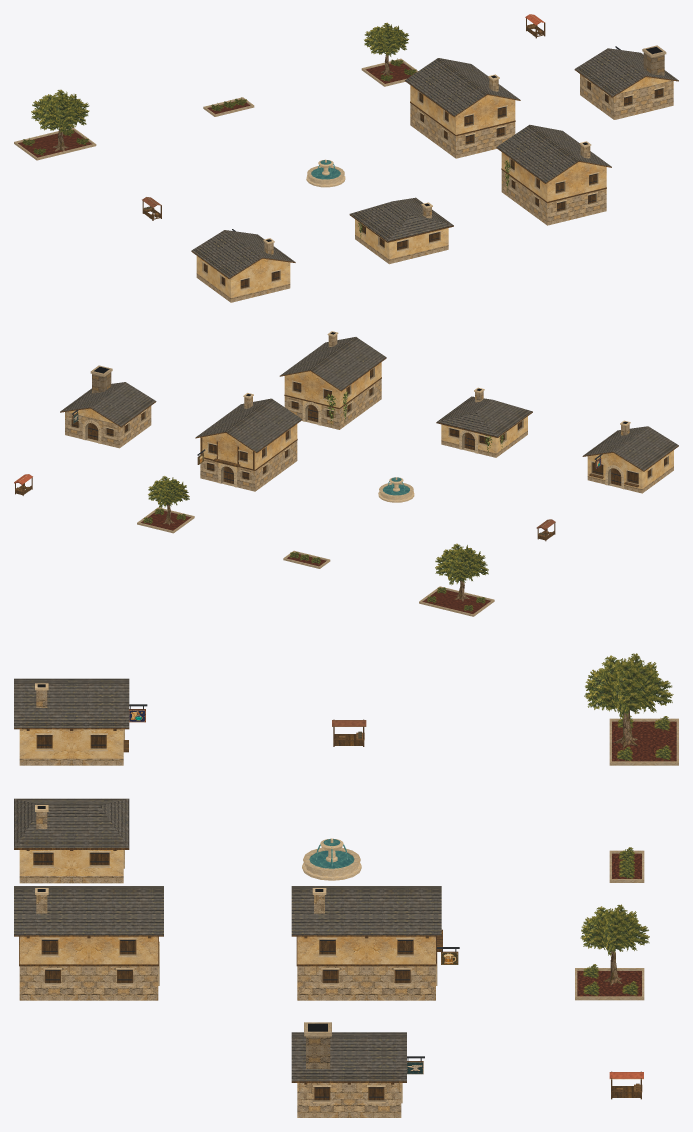
File: city-dressing.glb
The picture shows the model from 3 angles, top to bottom: view 1: azimuth 30°, elevation 25°; view 2: azimuth 150°, elevation 25°; view 3: azimuth 270°, elevation 25°; orthographic projection. The views are drawn at different scales.
Visible parts, largest first — view 1: tall-house, inn, provisioner, smithy, low-house-hip, courtyard-tree-foliage, dressing-courtyard-garden-opaque, dressing-east-tree-foliage, smithy-part-1, inn-part-1, tall-house-part-1, dressing-east-garden-opaque (+3 smaller); view 2: inn, tall-house, provisioner, smithy, low-house-hip, courtyard-tree-foliage, dressing-courtyard-garden-opaque, smithy-part-1, inn-part-1, tall-house-part-1, dressing-east-tree-foliage, provisioner-part-1 (+3 smaller); view 3: inn, tall-house, provisioner, low-house-hip, smithy, courtyard-tree-foliage, dressing-courtyard-garden-opaque, dressing-east-tree-foliage, dressing-east-garden-opaque, smithy-part-1, tall-house-part-1, dressing-fountain-opaque (+6 smaller).
Part boxes in pixels (box(x1,y1,x2,y2)): tall-house: box(496, 124, 611, 225); inn: box(405, 58, 520, 158); provisioner: box(191, 230, 295, 302); smithy: box(574, 48, 678, 119); low-house-hip: box(349, 197, 453, 264); courtyard-tree-foliage: box(31, 89, 89, 133); dressing-courtyard-garden-opaque: box(14, 127, 96, 160); dressing-east-tree-foliage: box(364, 22, 408, 56); smithy-part-1: box(585, 45, 666, 106); inn-part-1: box(417, 75, 506, 145); tall-house-part-1: box(509, 142, 598, 212); dressing-east-garden-opaque: box(361, 58, 417, 86); inn: box(195, 393, 302, 491); tall-house: box(279, 331, 386, 429); provisioner: box(582, 420, 678, 493); smithy: box(60, 371, 156, 448); low-house-hip: box(436, 387, 532, 457); courtyard-tree-foliage: box(435, 543, 488, 585); dressing-courtyard-garden-opaque: box(419, 586, 494, 616); smithy-part-1: box(70, 365, 145, 442); inn-part-1: box(201, 394, 290, 486); tall-house-part-1: box(290, 332, 374, 424); dressing-east-tree-foliage: box(148, 476, 189, 508); provisioner-part-1: box(591, 421, 668, 488); inn: box(291, 886, 442, 1000); tall-house: box(14, 886, 163, 1000); provisioner: box(14, 678, 129, 765); low-house-hip: box(14, 798, 129, 883); smithy: box(291, 1032, 406, 1117); courtyard-tree-foliage: box(584, 653, 673, 719); dressing-courtyard-garden-opaque: box(609, 718, 678, 765); dressing-east-tree-foliage: box(580, 904, 649, 955); dressing-east-garden-opaque: box(575, 968, 644, 1000); smithy-part-1: box(304, 1022, 384, 1101); tall-house-part-1: box(36, 889, 136, 983); dressing-fountain-opaque: box(302, 838, 361, 880).
Bounding box in the file's own units: 27.36 × 3.17 × 19.16.
7 materials, 7 textured.
